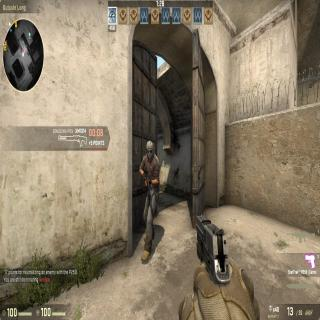T-Body: (141, 139, 160, 261)
T-Head: (145, 140, 154, 160)
